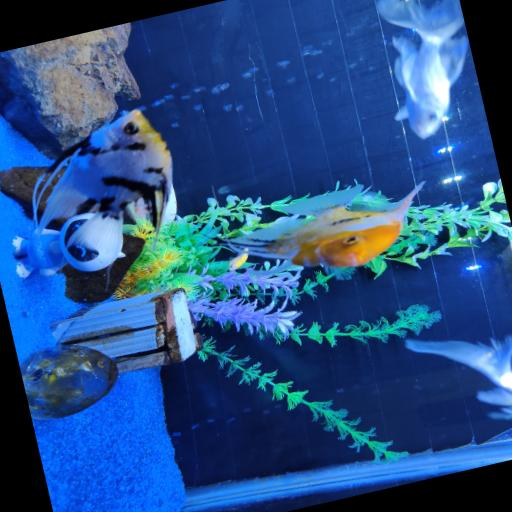Fish: (38, 109, 171, 257), (226, 182, 423, 267), (377, 0, 467, 138), (405, 336, 511, 418), (224, 248, 252, 272)
